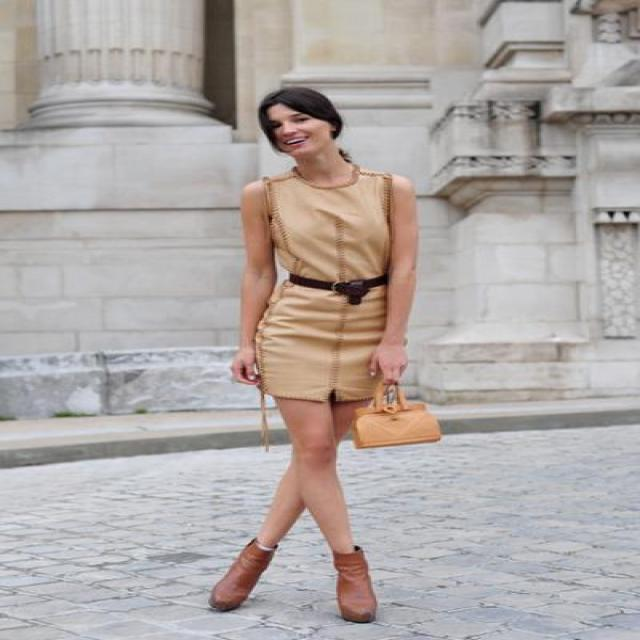bag: (338, 388, 438, 447)
dress: (258, 167, 395, 418)
shoe: (206, 538, 376, 623)
